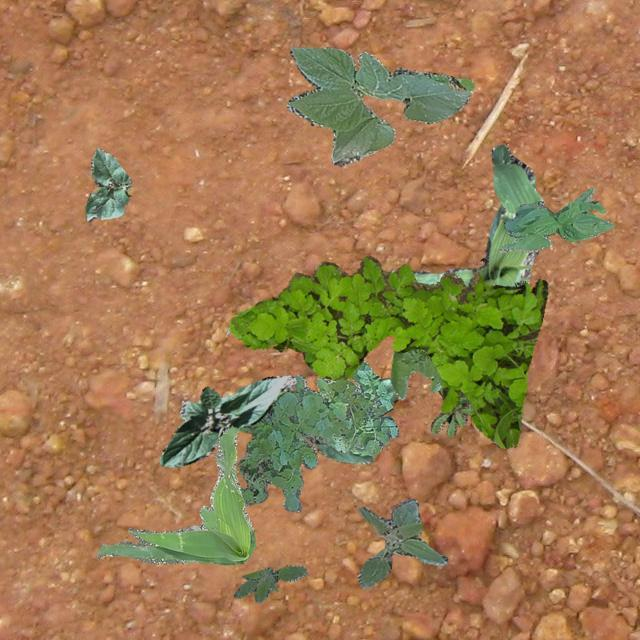crop: (284, 46, 473, 166), (410, 144, 542, 286), (158, 374, 294, 466), (499, 186, 613, 252), (84, 147, 130, 220), (298, 433, 372, 462), (380, 377, 396, 403)
weed: (228, 255, 546, 448), (235, 360, 398, 510), (96, 424, 254, 564), (358, 498, 447, 588), (232, 564, 306, 602), (390, 348, 442, 398), (429, 384, 472, 436)
